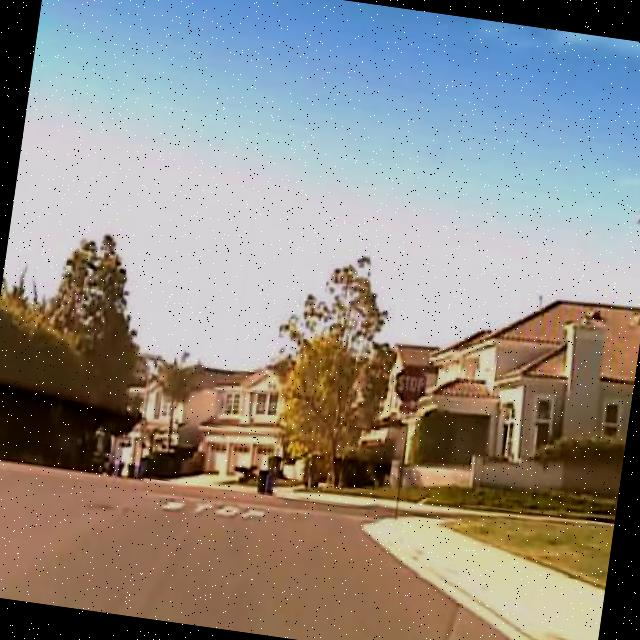Stop: (392, 361, 429, 407)
